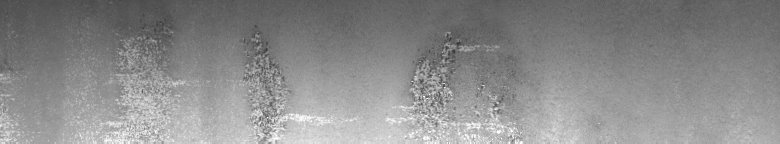hc: (400, 32, 518, 136)
